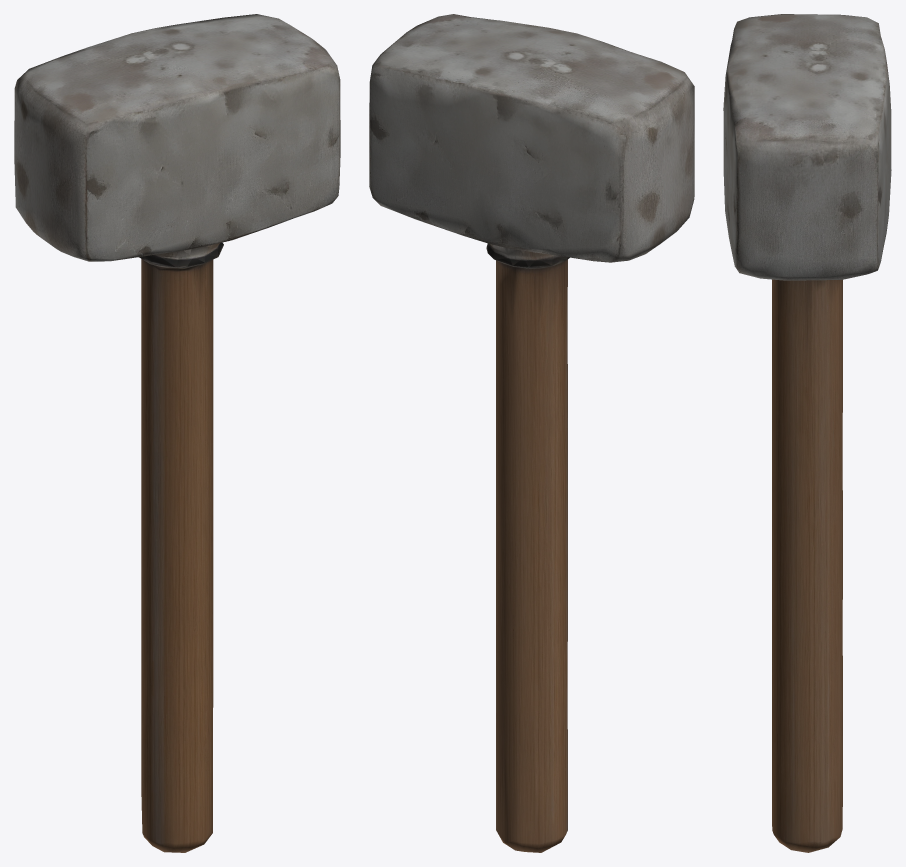
Rendered from wpn_hammer.glb.
3 renders of one model, left to right at view 1: azimuth 30°, elevation 25°; view 2: azimuth 150°, elevation 25°; view 3: azimuth 270°, elevation 25°, orthographic.
Bounding box in the file's own units: 0.7349 × 2 × 0.3894.
Materials: 1 (1 with a texture image).
